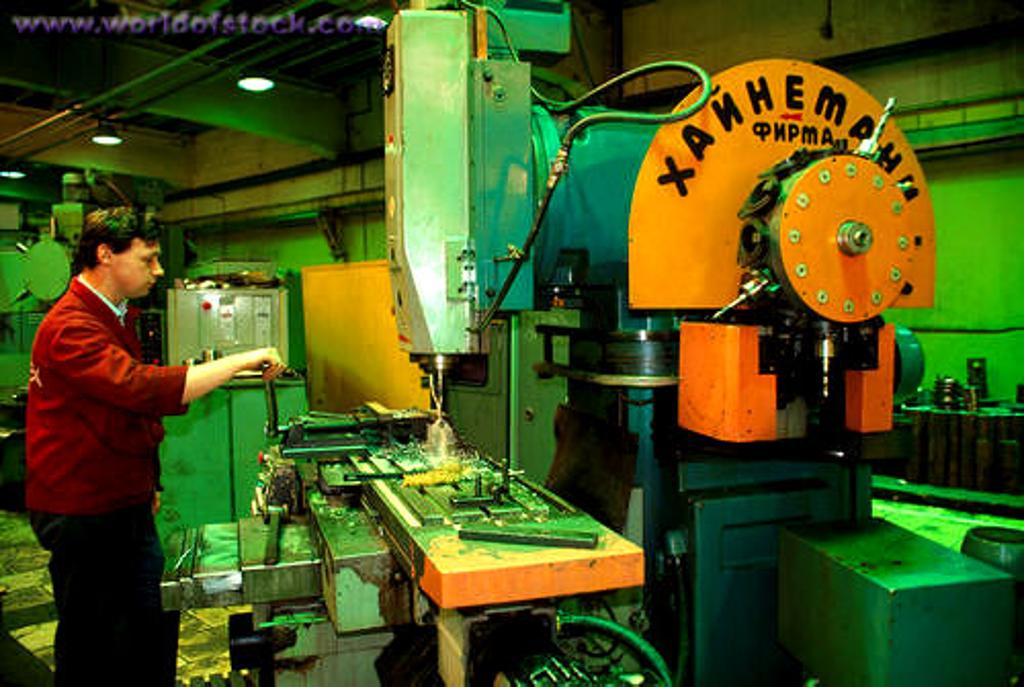face: (104, 220, 166, 302)
